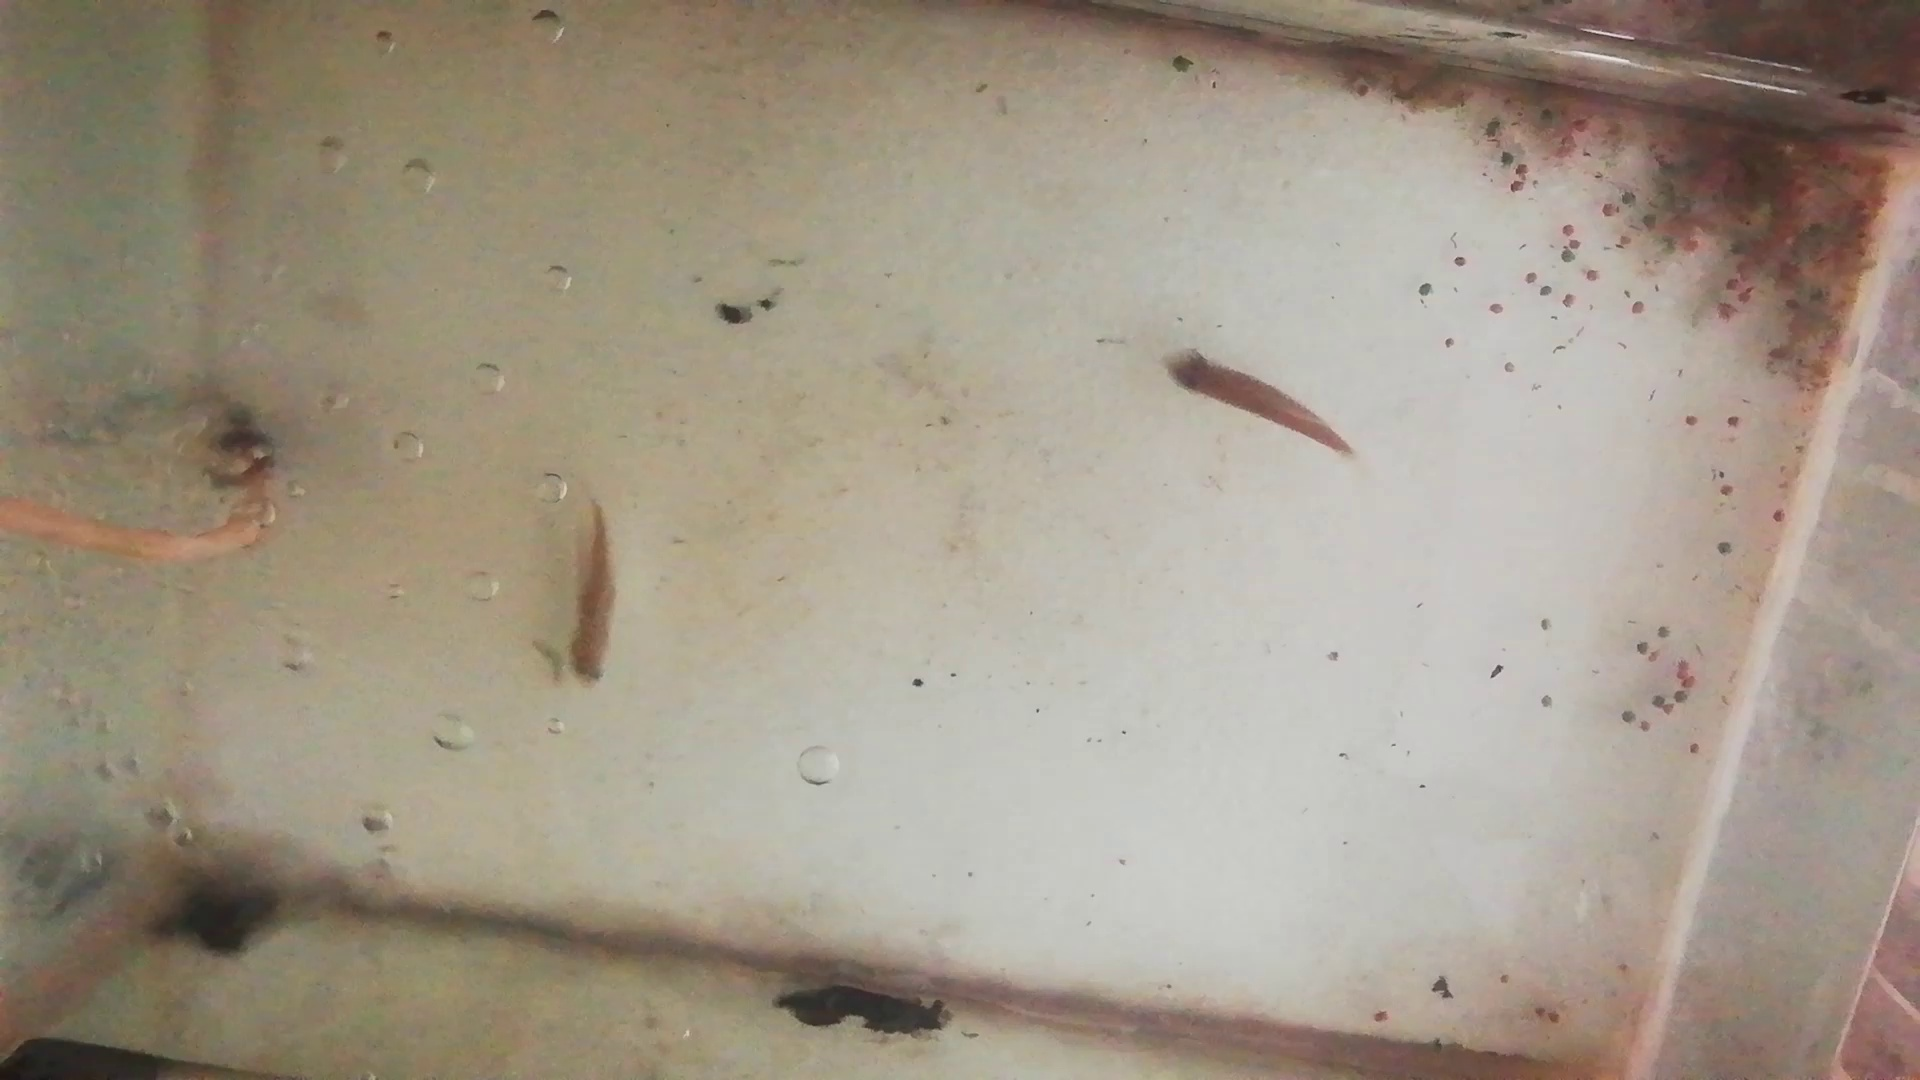fish: (1158, 347, 1346, 458), (567, 504, 620, 695)
